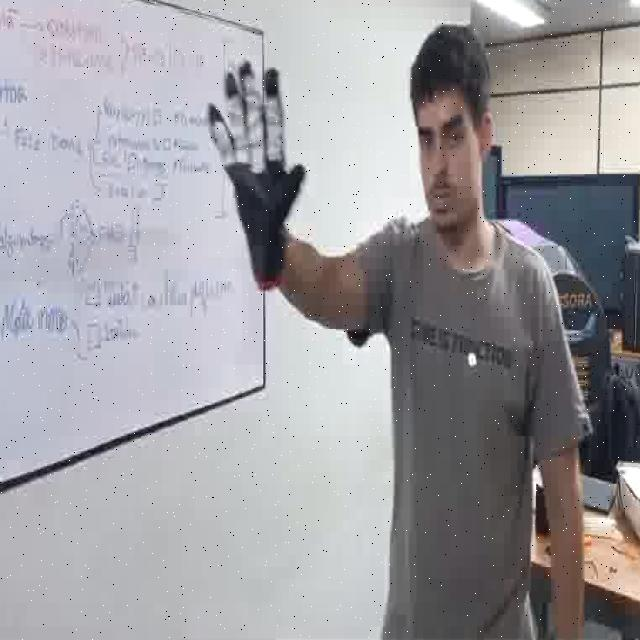Gloves: (204, 53, 308, 288)
